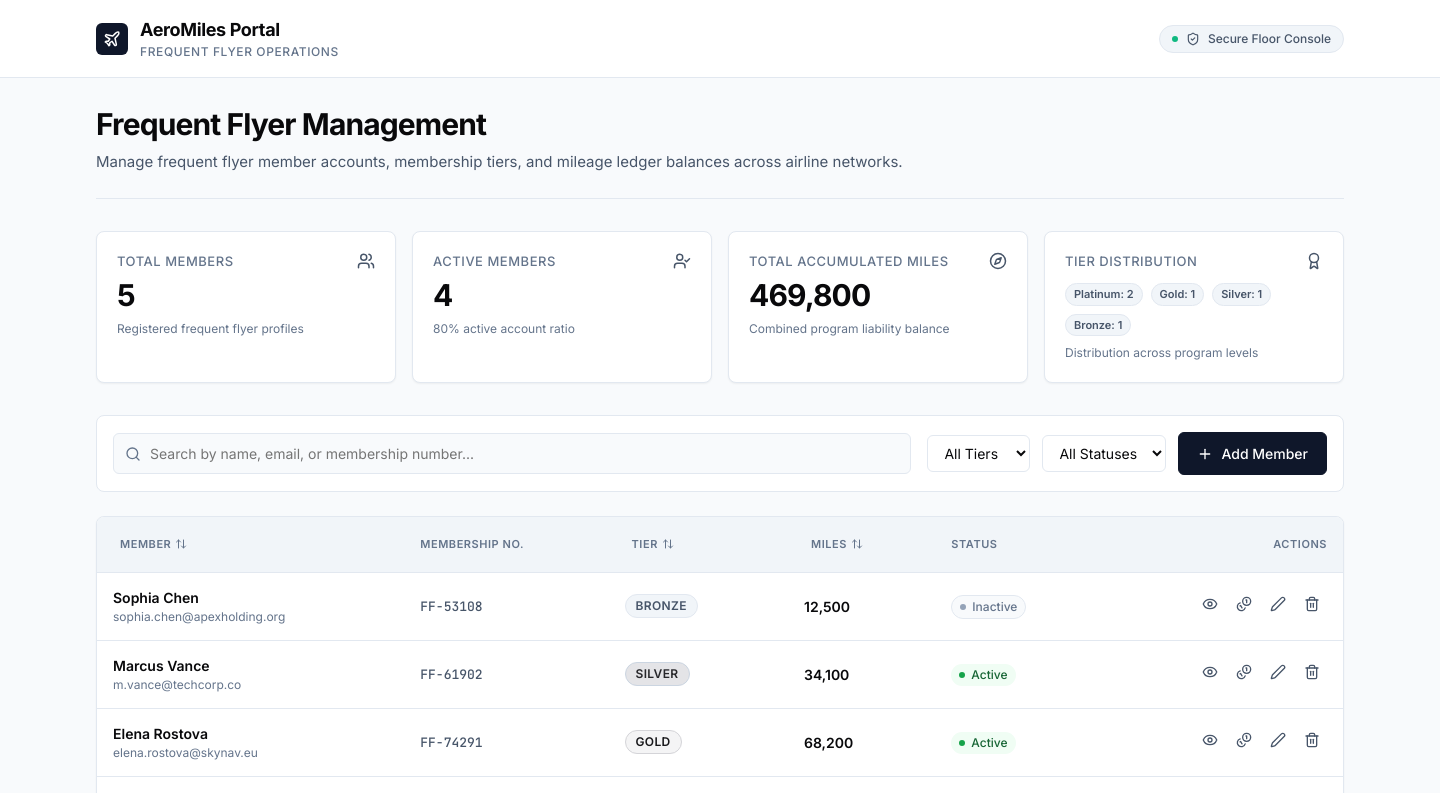
Unhappy-Path Tests (TRD Section 9) › 11. Repeated clicks do not create duplicate records (disabled during submission)
This screenshot has width=1440, height=793.
Click the button "Add Member".
click(1253, 454)  # box [1178,432,1327,475]
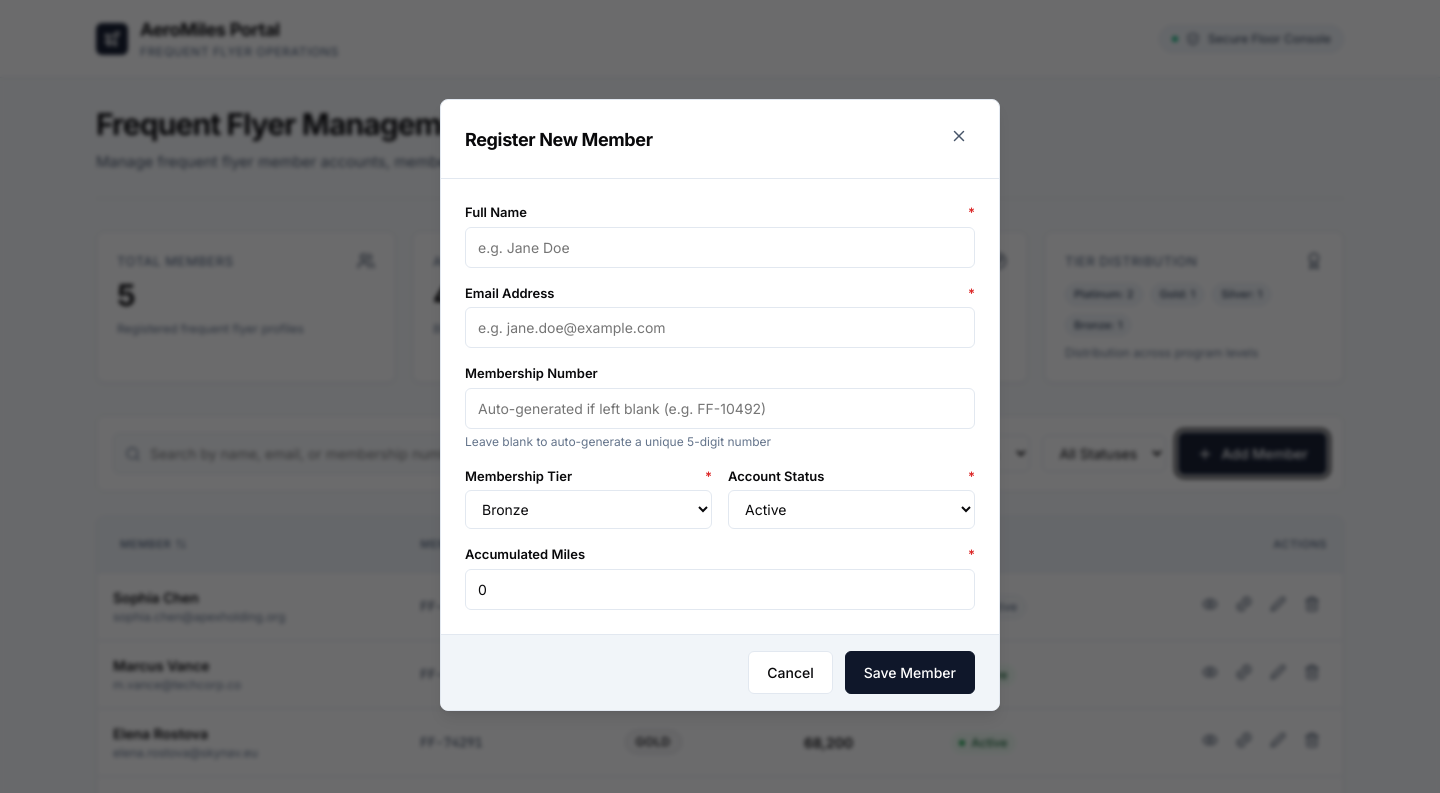
Type "Fast Clicker" into the field labelled "Full Name *".
click(720, 247); type("Fast Clicker")  # box [465,227,975,268]
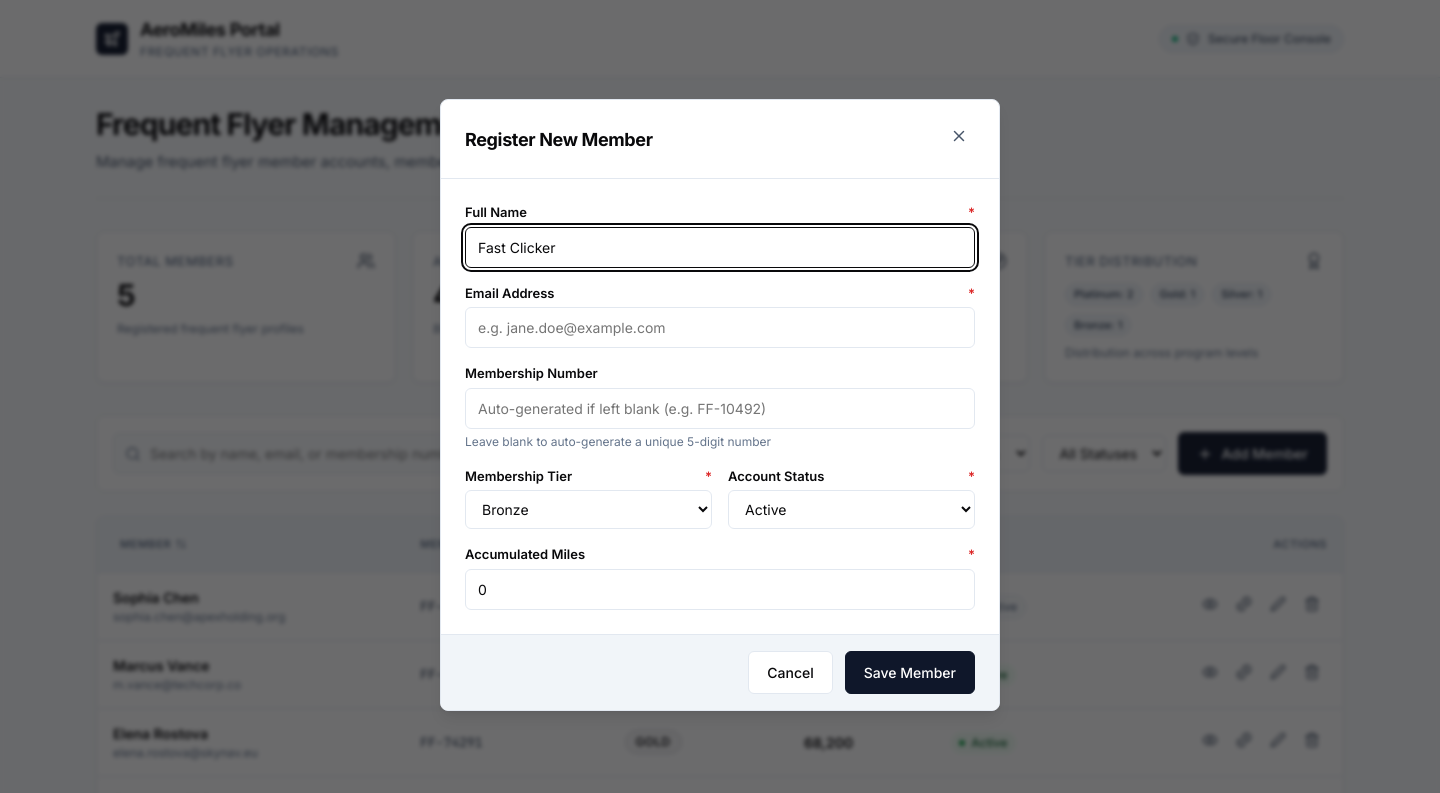
Type "fast@clicker.com" into the field labelled "Email Address *".
click(720, 328); type("fast@clicker.com")  # box [465,307,975,348]
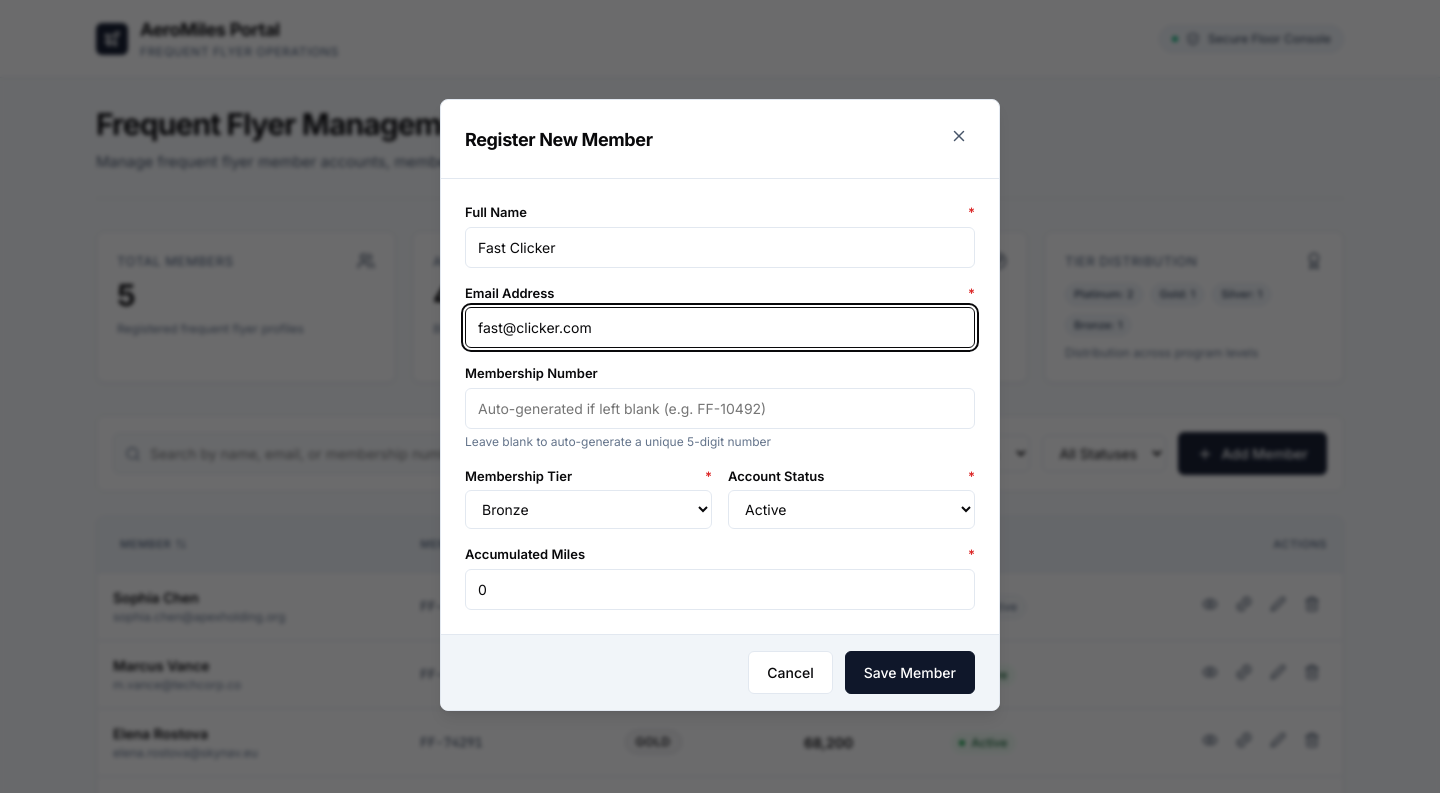
Note: Fast double click
Double-click the button "Save Member".
double_click(910, 672)  # box [845,651,975,694]
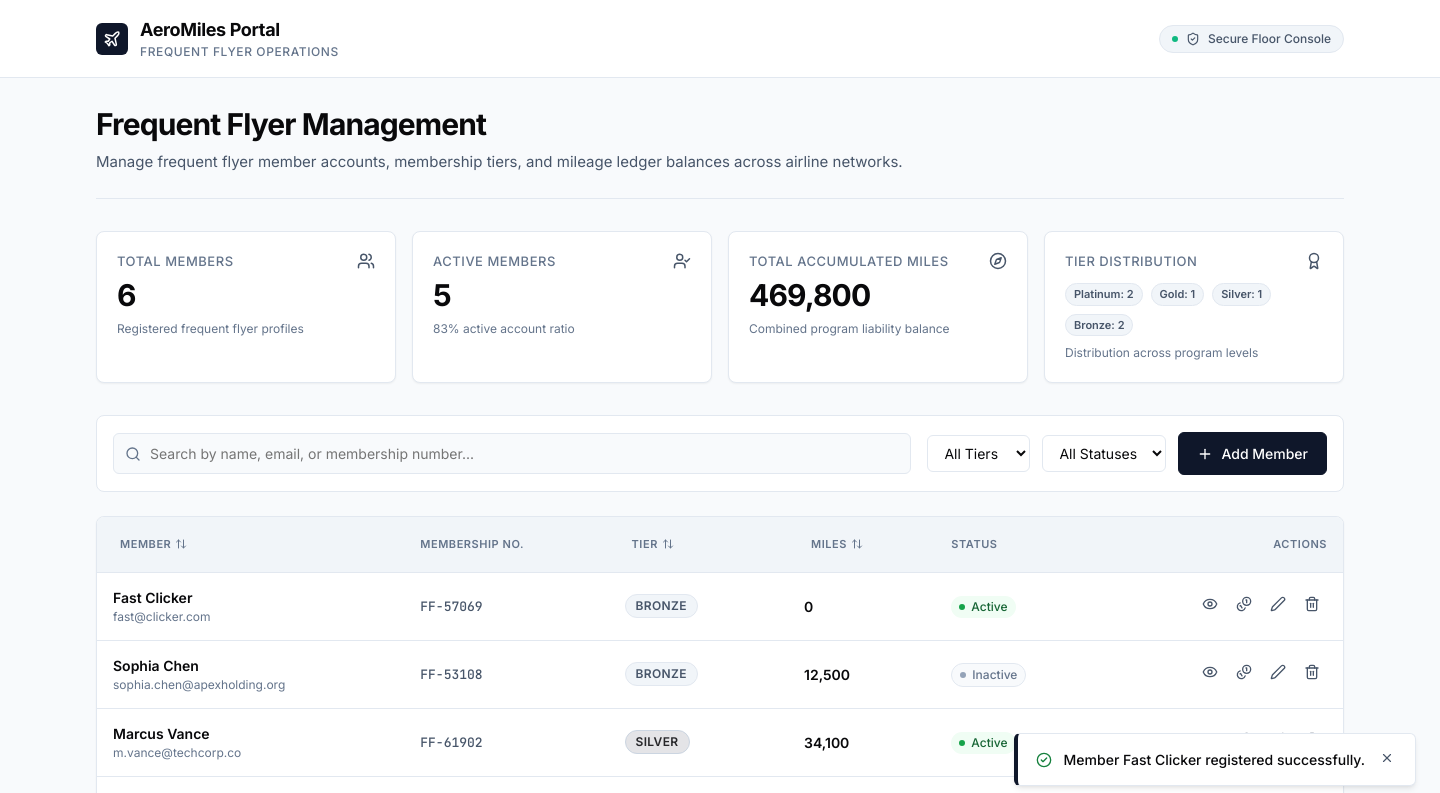
Now the dialog is gone
